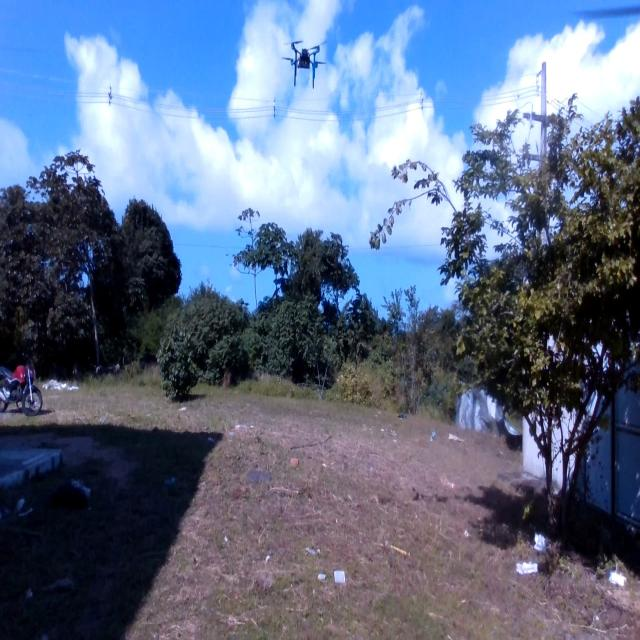-uav-: (283, 26, 337, 94)
